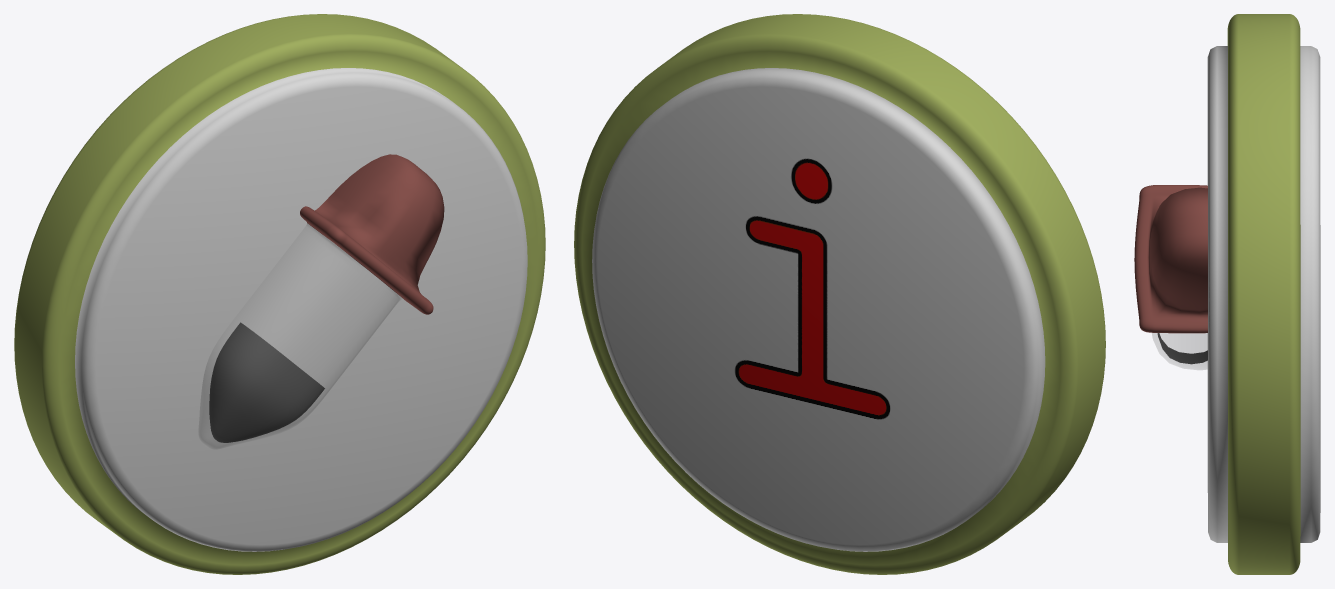
The model's file is ink.gltf.
The picture shows the model from 3 angles, left to right: view 1: azimuth 30°, elevation 25°; view 2: azimuth 150°, elevation 25°; view 3: azimuth 270°, elevation 25°; orthographic projection. The views are drawn at different scales.
Parts seen in each view (by area): view 1: coin, Cube, Cube.001; view 2: coin; view 3: coin, Cube, Cube.001.
Part boxes in pixels (x1=…): coin: x1=14, y1=14, x2=545, y2=574; Cube: x1=198, y1=154, x2=444, y2=449; Cube.001: x1=209, y1=322, x2=324, y2=442; coin: x1=574, y1=14, x2=1105, y2=574; coin: x1=1207, y1=14, x2=1320, y2=574; Cube: x1=1134, y1=185, x2=1207, y2=369; Cube.001: x1=1157, y1=333, x2=1207, y2=364.
Size of what is drawn, in the model's own units: 2.56 by 2.56 by 0.8481.
6 materials, 1 textured.
